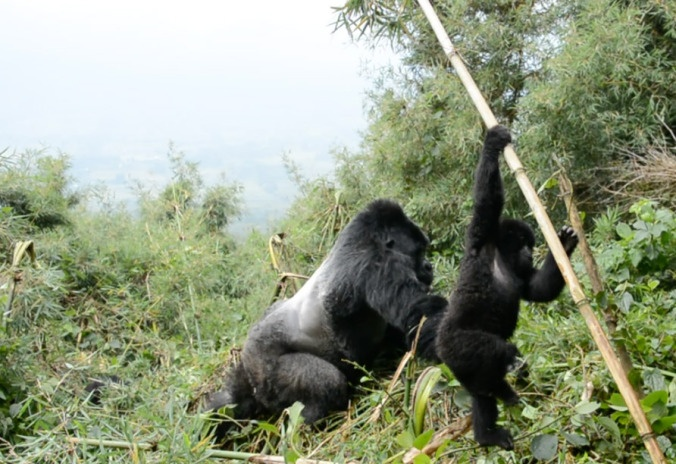gorilla: (204, 191, 453, 464), (434, 117, 580, 455)
